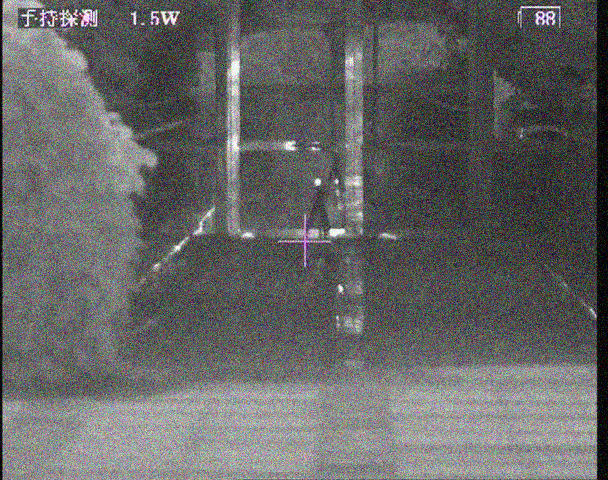my: (313, 178, 322, 187)
